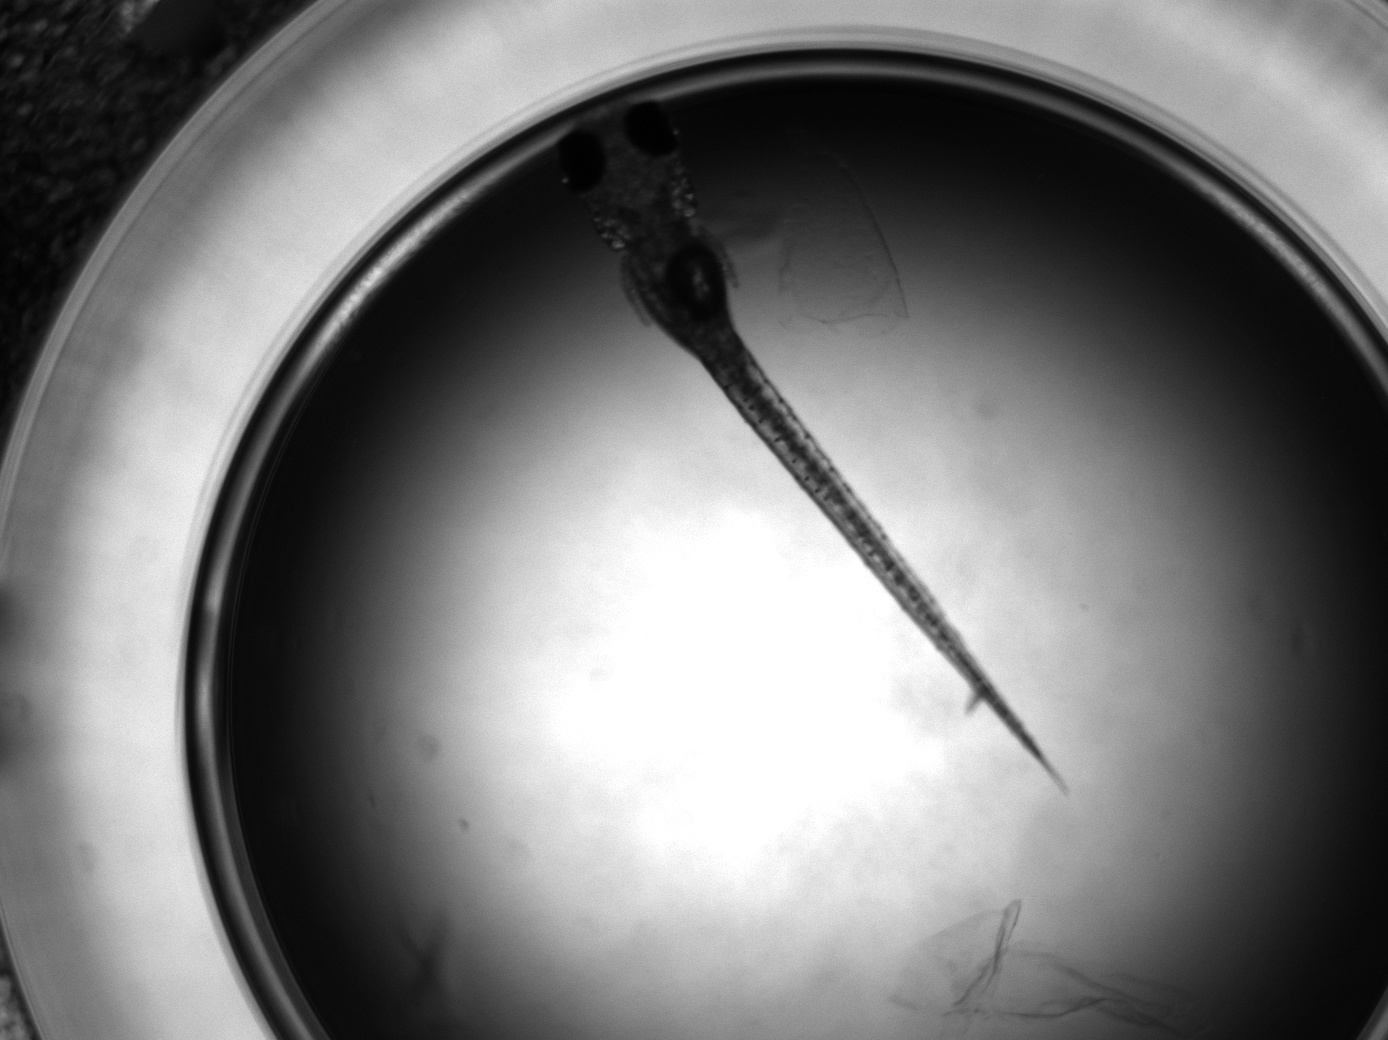debris: (892, 898, 1239, 1040), (771, 141, 910, 336)
embryo: (553, 98, 1071, 797)
eye: (554, 128, 608, 196), (622, 101, 683, 161)
yolksac: (625, 226, 757, 363)
